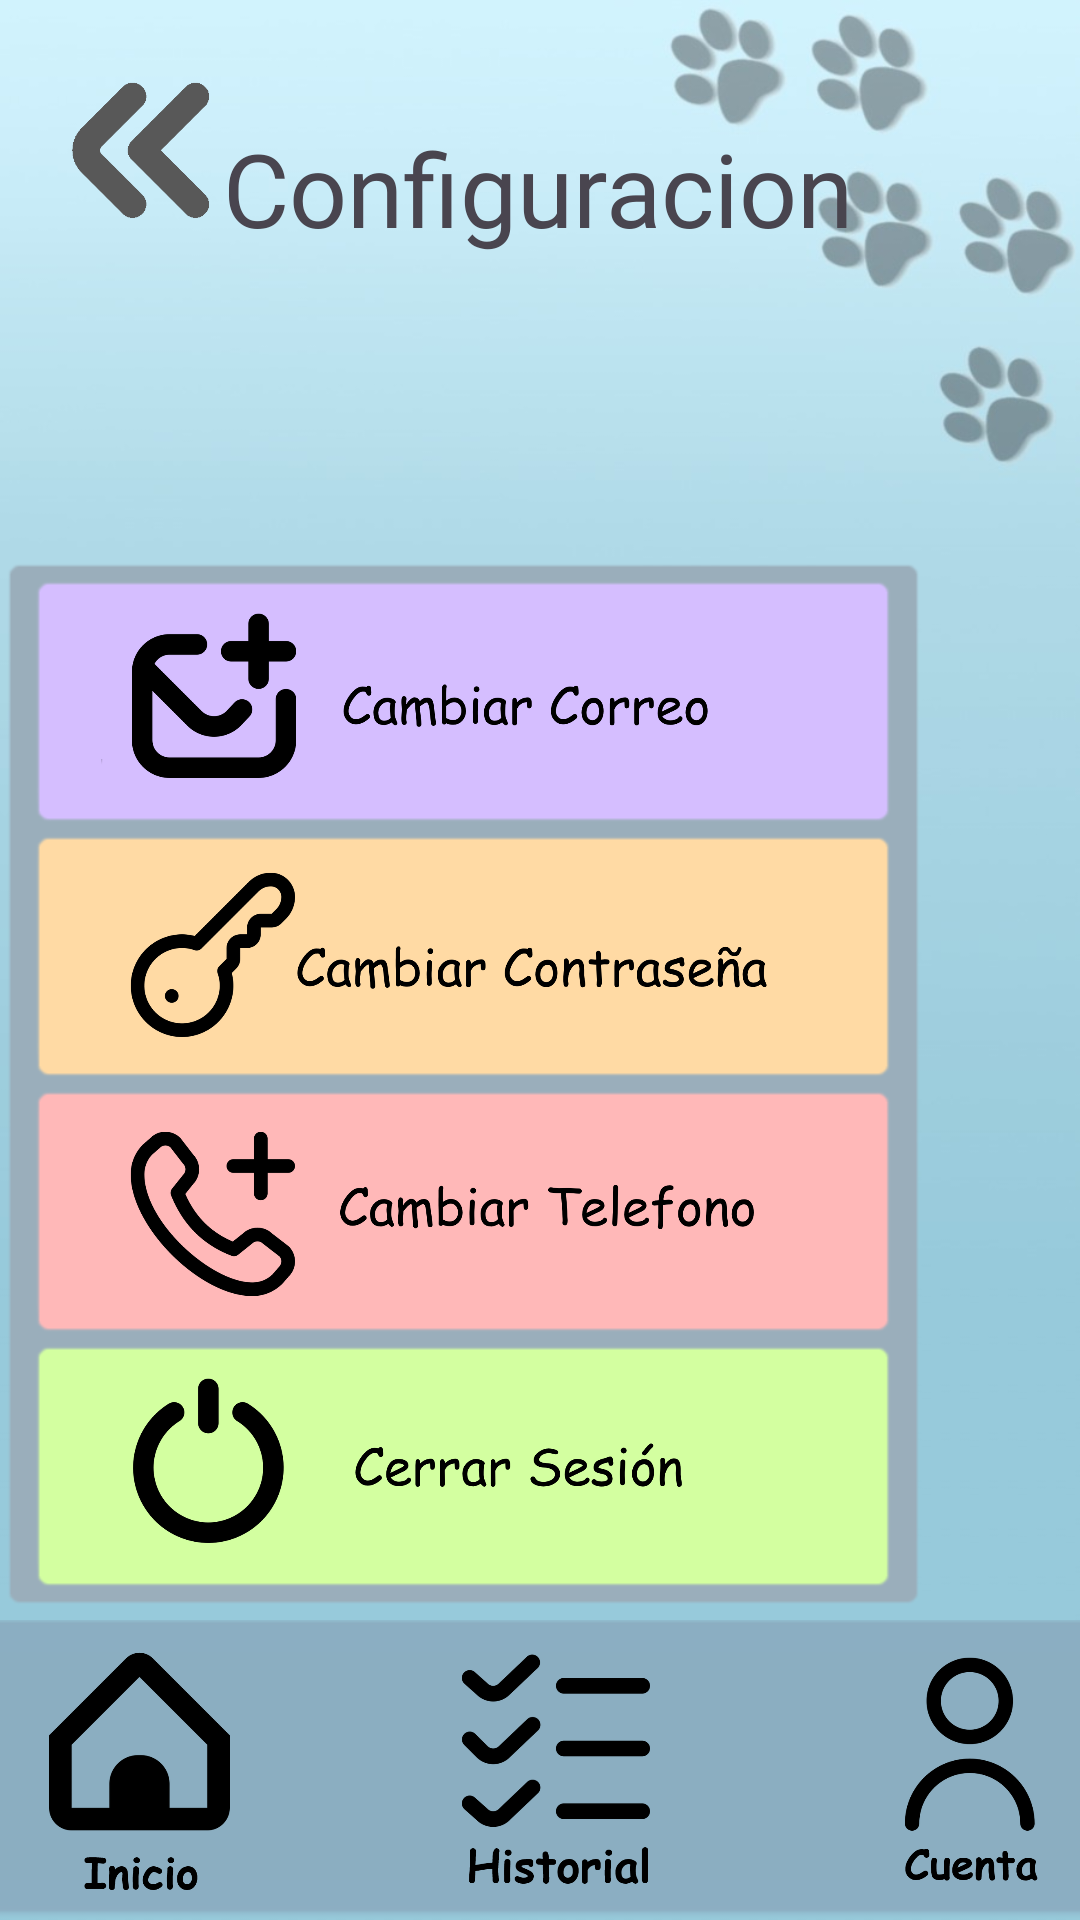

Where to tap for icons on this 1080 × 1920 app screen, as point (x, y):
regresar: point (140, 150)
